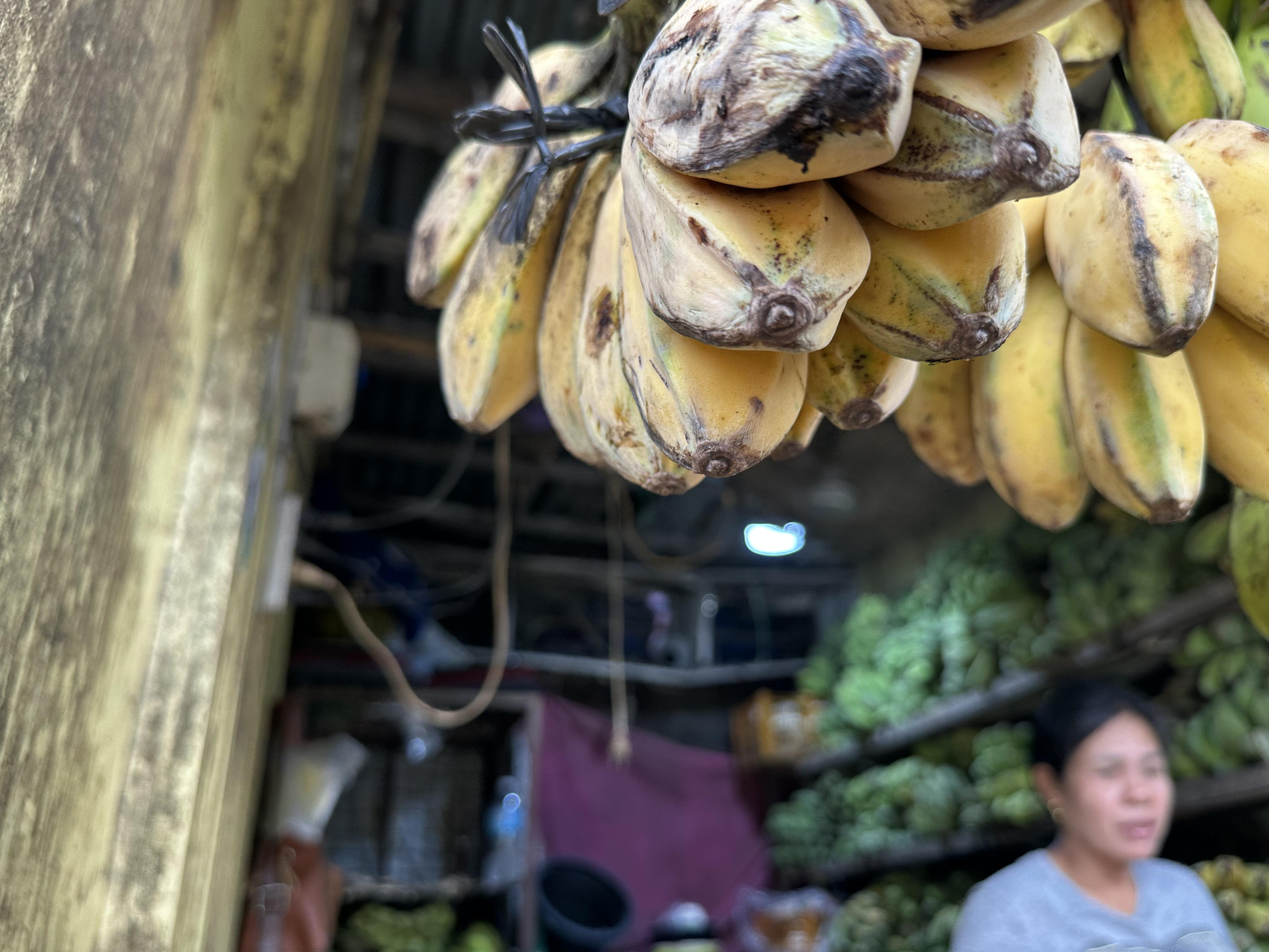ripe: (895, 119, 1269, 530)
underripe: (407, 0, 1095, 495)
